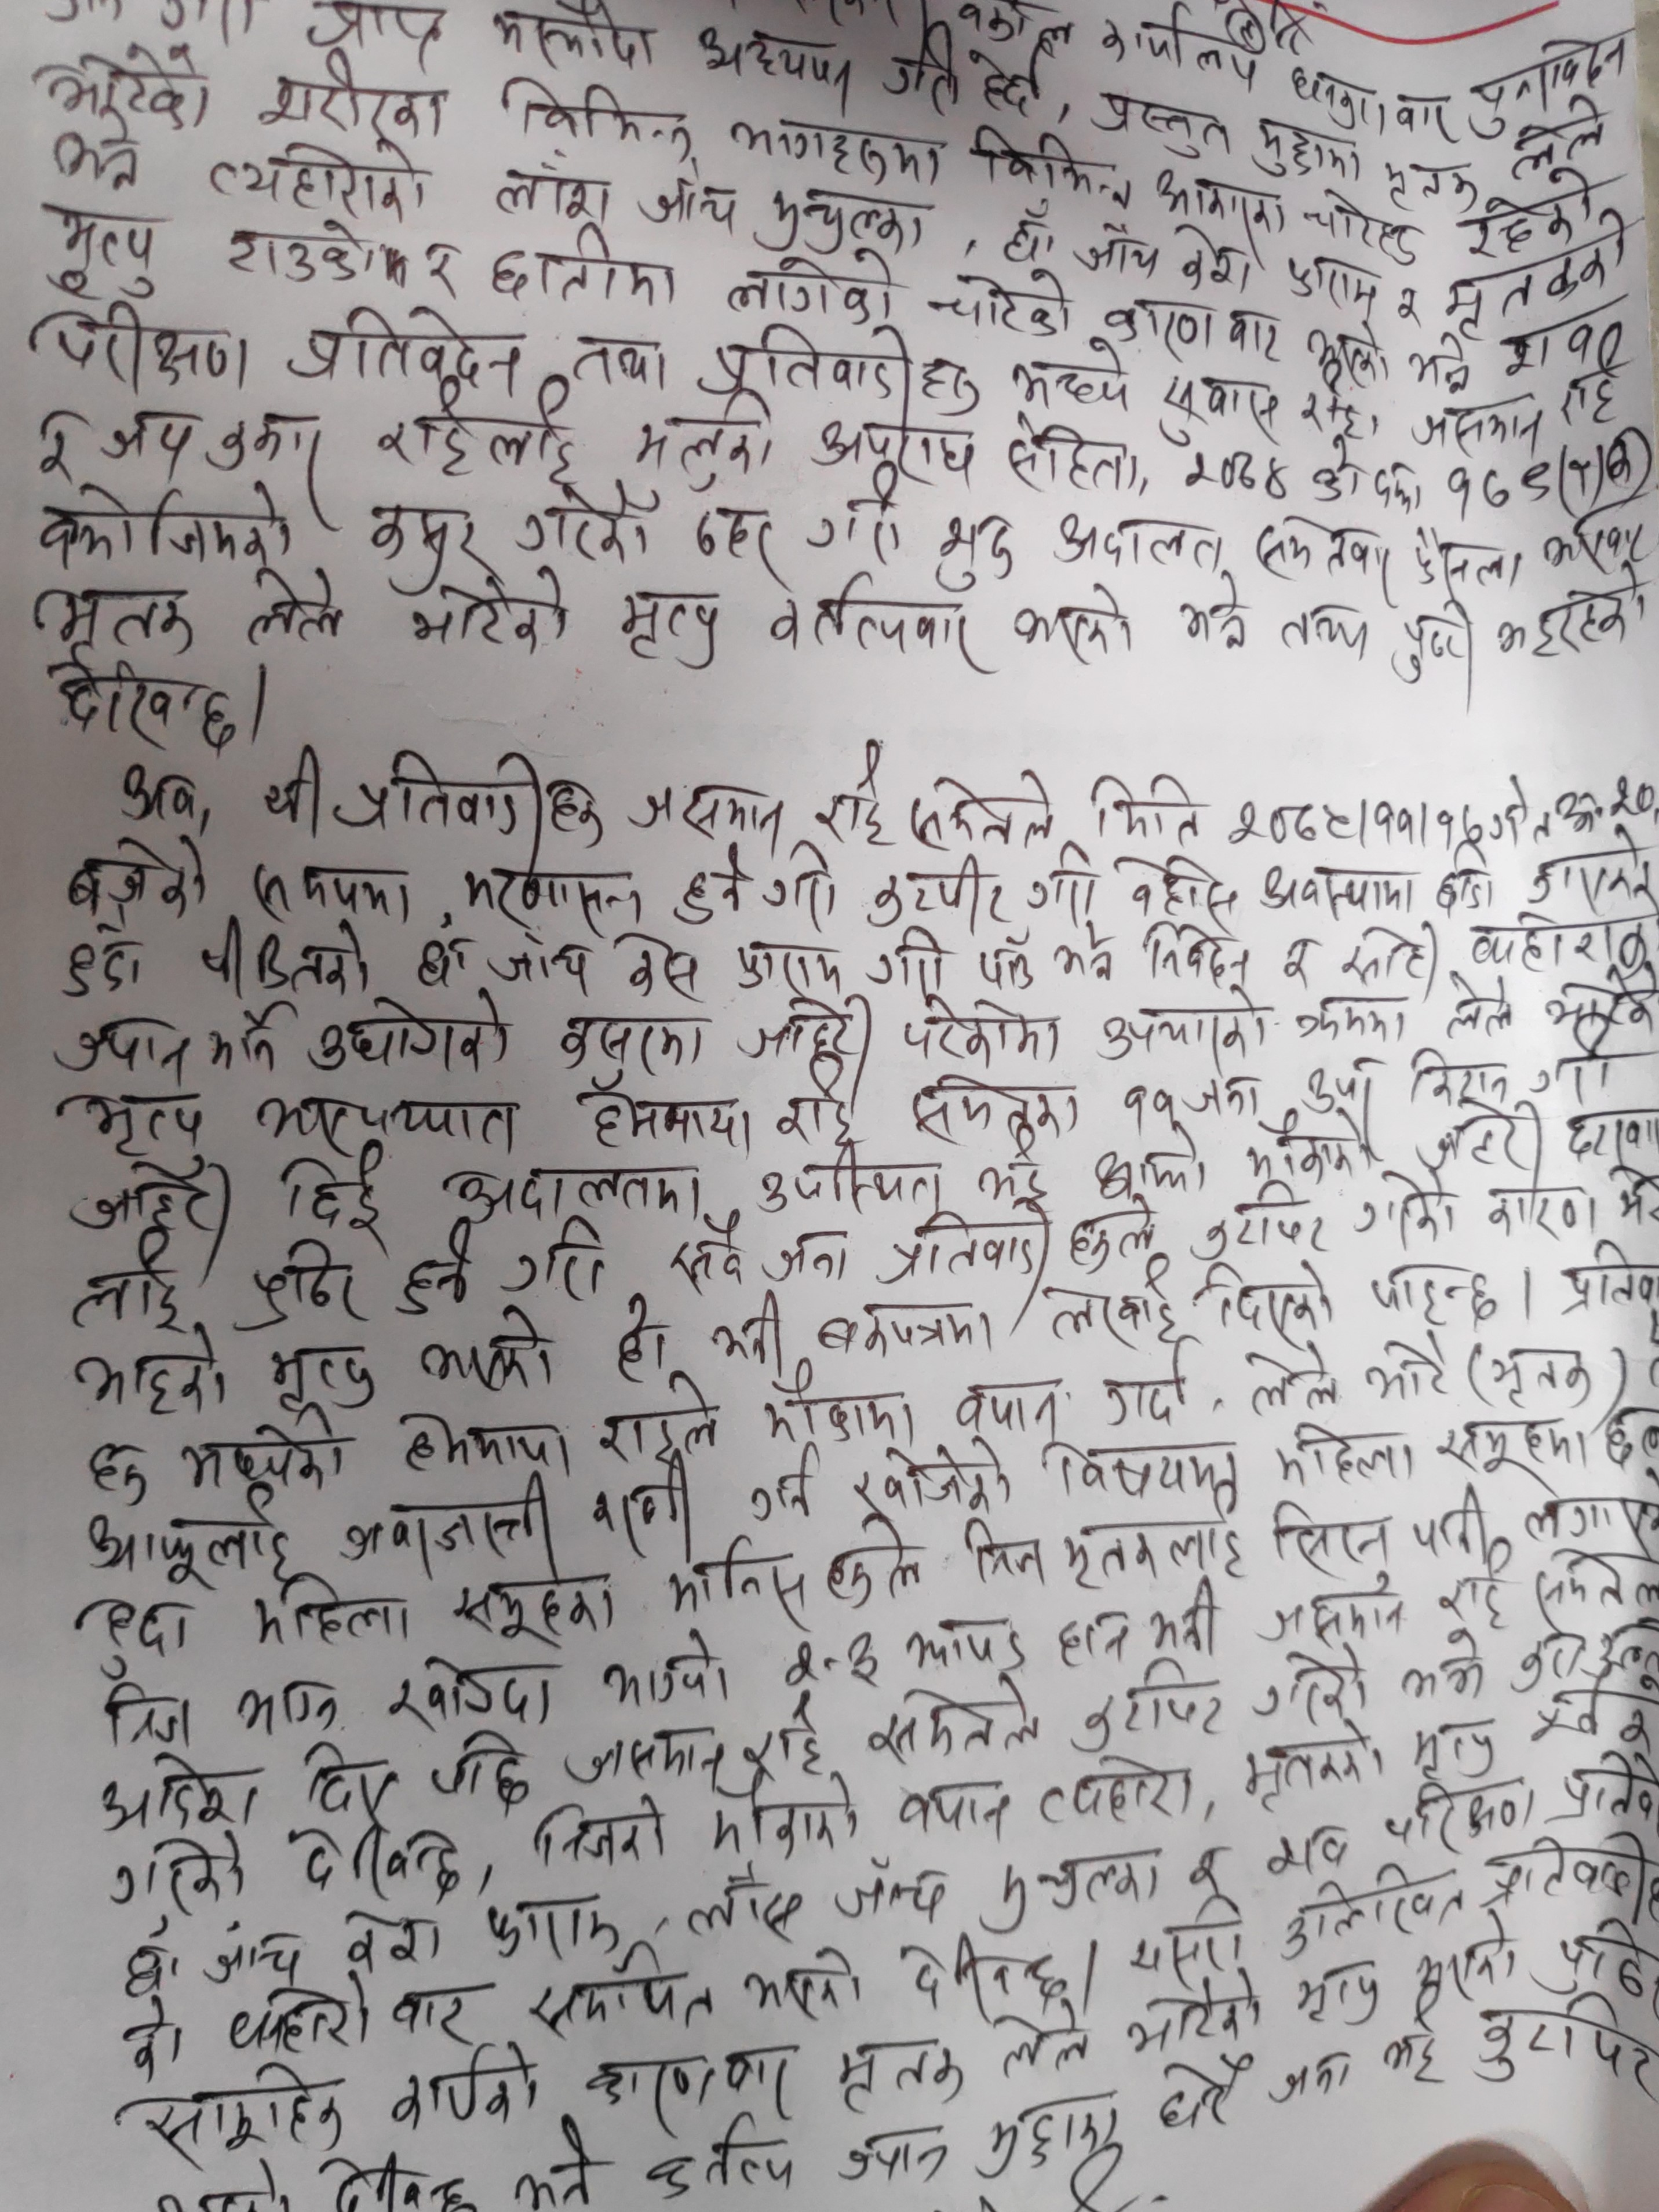text: (340, 748, 608, 854), (702, 322, 988, 415), (118, 2062, 350, 2163), (765, 577, 981, 685), (1467, 1992, 1659, 2111), (35, 485, 296, 570), (38, 296, 253, 396), (375, 380, 577, 483), (333, 1476, 558, 1567), (284, 305, 530, 387), (87, 1492, 293, 1590), (202, 136, 427, 223), (44, 655, 242, 753), (526, 1947, 721, 2041), (484, 221, 683, 312), (498, 73, 699, 159), (256, 52, 448, 141), (441, 1159, 708, 1222), (1054, 1489, 1225, 1586), (723, 112, 945, 187), (308, 999, 514, 1079), (35, 40, 214, 129), (967, 120, 1141, 211), (284, 1818, 469, 1903), (629, 387, 777, 492), (1223, 790, 1490, 847), (66, 1330, 234, 1419), (1089, 987, 1270, 1069), (193, 915, 375, 995), (983, 1844, 1159, 1926), (866, 1684, 1049, 1762), (894, 1928, 1072, 2008), (753, 176, 931, 254), (878, 1203, 1056, 1281), (387, 2043, 540, 2134), (408, 572, 580, 652), (1100, 3, 1258, 91), (99, 1750, 258, 1837), (446, 1571, 617, 1651), (1460, 31, 1635, 110), (1075, 1659, 1229, 1748), (749, 1145, 945, 1215), (64, 1229, 190, 1337), (380, 1652, 558, 1727), (695, 21, 856, 103), (223, 1973, 378, 2057), (390, 1408, 580, 1476), (575, 1086, 760, 1156), (706, 1781, 863, 1863), (903, 1070, 1082, 1142), (1239, 1724, 1385, 1811), (42, 200, 169, 300), (1037, 1752, 1197, 1830), (904, 770, 1058, 852), (71, 1154, 235, 1231), (462, 863, 647, 931), (181, 1408, 349, 1483), (246, 1576, 413, 1651), (901, 997, 1063, 1074), (554, 1008, 706, 1089), (662, 1539, 814, 1621), (246, 1236, 373, 1333), (978, 2092, 1122, 2177), (849, 1443, 1016, 1517), (483, 3, 662, 71), (415, 1311, 563, 1393), (105, 1829, 246, 1914), (723, 251, 896, 321), (1251, 514, 1396, 596), (1035, 1435, 1239, 1492), (1053, 509, 1223, 577), (64, 835, 209, 915), (1004, 408, 1141, 492), (645, 2125, 798, 2200), (1466, 910, 1654, 971), (561, 1724, 725, 1794), (1201, 1260, 1338, 1342), (599, 1630, 734, 1713), (516, 483, 652, 565), (31, 584, 204, 648), (1011, 582, 1138, 669), (596, 1372, 723, 1459), (627, 774, 786, 844), (246, 858, 416, 922), (1272, 1417, 1419, 1492), (52, 1088, 209, 1157), (580, 2048, 716, 2128), (863, 852, 1009, 926), (1380, 1778, 1534, 1848), (762, 1375, 918, 1443), (809, 732, 899, 849), (805, 465, 911, 565), (1197, 1184, 1333, 1260), (71, 1593, 199, 1675), (533, 1799, 674, 1872), (1129, 1893, 1248, 1980), (1434, 1414, 1589, 1480), (1152, 370, 1279, 450), (1150, 164, 1286, 239), (809, 411, 979, 471), (221, 221, 378, 286), (931, 268, 1075, 338), (54, 1014, 192, 1088), (1087, 98, 1236, 166), (821, 1511, 922, 1611), (1527, 833, 1657, 910), (498, 1218, 615, 1304), (835, 2036, 967, 2111), (680, 1867, 803, 1947), (587, 1455, 701, 1543), (427, 1724, 540, 1811), (481, 1893, 622, 1963), (350, 1091, 521, 1149), (1122, 1989, 1270, 2055), (817, 1302, 999, 1356), (741, 1944, 868, 2020), (207, 404, 333, 481), (1110, 847, 1237, 922), (1368, 1257, 1500, 1328), (619, 582, 725, 671), (1084, 772, 1209, 847), (1051, 1272, 1175, 1347), (368, 500, 483, 580), (390, 1218, 481, 1320), (1413, 1100, 1544, 1170), (242, 568, 350, 652), (1004, 342, 1136, 410), (1492, 596, 1633, 659), (1256, 861, 1419, 915), (1405, 394, 1546, 455), (1249, 1651, 1370, 1722), (1542, 1919, 1647, 2001), (279, 1152, 385, 1232), (511, 2123, 606, 2212), (1307, 188, 1420, 263), (1094, 1347, 1195, 1431), (1483, 1166, 1603, 1236), (741, 1691, 833, 1781), (1243, 1119, 1375, 1182), (1138, 920, 1260, 988), (1093, 1130, 1211, 1199), (772, 1053, 861, 1145), (265, 1339, 382, 1408), (40, 113, 139, 195), (1354, 1168, 1462, 1243), (1413, 523, 1527, 594), (833, 1862, 951, 1930), (1337, 915, 1446, 988), (1310, 441, 1424, 511), (1530, 1016, 1622, 1102), (735, 995, 861, 1058), (1528, 1686, 1654, 1748), (1260, 1591, 1415, 1642), (1157, 2053, 1256, 2132), (1248, 113, 1359, 183), (934, 509, 1023, 596), (1436, 263, 1544, 335), (1286, 1954, 1387, 2029), (880, 19, 962, 112), (1462, 193, 1579, 258), (1279, 1874, 1364, 1961), (200, 1919, 307, 1989), (301, 1738, 396, 1816), (1574, 1823, 1650, 1919), (495, 166, 619, 225), (296, 3, 451, 51), (1392, 601, 1481, 683), (897, 1778, 1007, 1844), (992, 2006, 1091, 2080), (1534, 1543, 1624, 1623), (697, 499, 789, 577), (1556, 326, 1624, 432), (1549, 763, 1652, 833), (1378, 1989, 1445, 2097), (1540, 514, 1657, 575), (336, 1905, 450, 1968), (904, 1618, 1032, 1673), (204, 1002, 296, 1079), (1286, 70, 1392, 136), (1507, 106, 1614, 173), (1446, 453, 1553, 519), (96, 1675, 192, 1748), (484, 929, 589, 995), (958, 1517, 1051, 1591), (1547, 1748, 1640, 1823), (840, 2127, 953, 2188), (234, 1675, 343, 1738), (1398, 1632, 1492, 1705), (746, 1442, 828, 1525), (1371, 1862, 1467, 1933), (1436, 1548, 1516, 1633), (258, 744, 331, 837), (708, 1292, 791, 1372), (1412, 1928, 1518, 1991), (1241, 1346, 1344, 1410), (1540, 971, 1652, 1030), (1480, 1834, 1572, 1905), (1488, 1344, 1596, 1405), (782, 1630, 890, 1691), (253, 1089, 352, 1156), (64, 915, 143, 999), (666, 1218, 749, 1297), (622, 929, 708, 1006), (1361, 1328, 1448, 1403), (730, 940, 847, 995), (1373, 152, 1483, 211), (1101, 293, 1216, 349), (570, 333, 669, 397), (864, 920, 950, 995), (721, 2043, 807, 2118), (1295, 995, 1412, 1049), (98, 408, 195, 472), (673, 840, 748, 924), (1405, 1048, 1513, 1105), (1284, 251, 1380, 316), (1065, 1198, 1155, 1265), (1560, 1236, 1638, 1314), (953, 1377, 1065, 1431), (760, 851, 840, 926), (1303, 321, 1394, 387), (1406, 1719, 1499, 1783), (387, 1984, 481, 2046), (1185, 448, 1297, 500), (118, 1998, 188, 2081), (974, 44, 1051, 119), (636, 176, 735, 234), (971, 1133, 1053, 1203), (1175, 225, 1253, 296), (1279, 601, 1373, 661), (760, 1225, 854, 1285), (113, 763, 197, 830), (1563, 1105, 1659, 1163), (1269, 2046, 1354, 2111), (1150, 1579, 1223, 1654), (1175, 579, 1248, 652), (1488, 772, 1558, 849), (1025, 847, 1098, 919), (1443, 976, 1518, 1044), (1073, 225, 1164, 281), (1265, 1820, 1354, 1876), (1300, 1055, 1377, 1119), (1053, 1607, 1133, 1668), (613, 1297, 666, 1386), (1431, 847, 1499, 915), (85, 1440, 157, 1504), (1403, 333, 1480, 392), (1511, 1633, 1588, 1691), (1392, 87, 1459, 152), (974, 931, 1040, 995), (1300, 392, 1380, 444), (1000, 199, 1063, 263), (1053, 924, 1119, 983), (1222, 312, 1286, 370), (31, 411, 77, 492), (1183, 1077, 1263, 1121), (416, 920, 465, 992), (1117, 1081, 1175, 1137), (122, 1938, 167, 1999), (422, 241, 465, 300), (1185, 1844, 1225, 1891), (1279, 934, 1309, 995), (1392, 286, 1425, 329)
